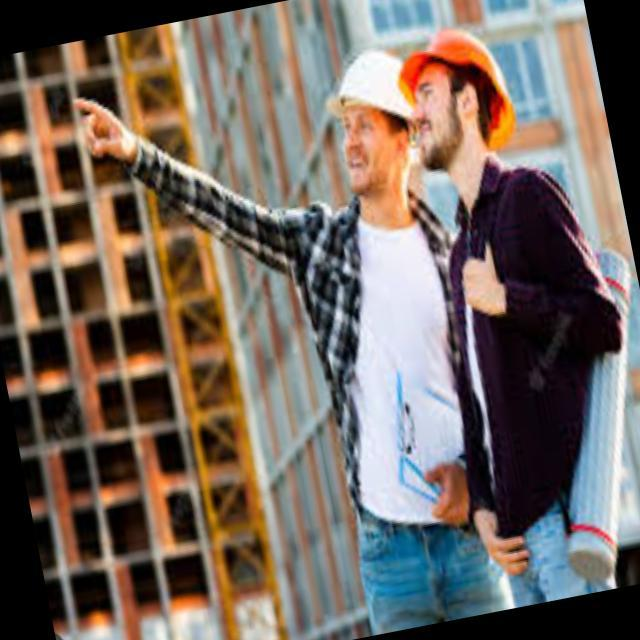helmet: (385, 14, 530, 188), (309, 36, 445, 217)
